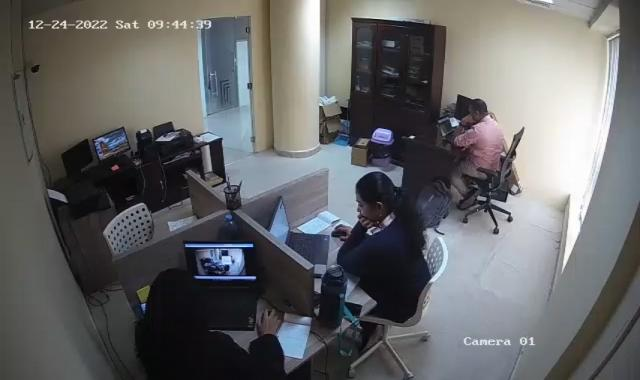no_hairnet: (144, 269, 204, 332), (352, 170, 399, 224), (466, 96, 488, 124)
